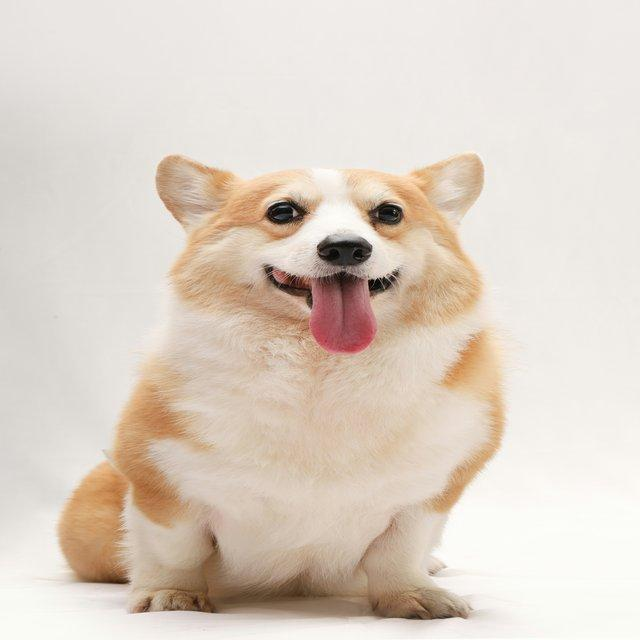corgi: (56, 149, 507, 619)
